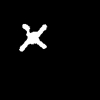single_crochet: (19, 24, 46, 50)
